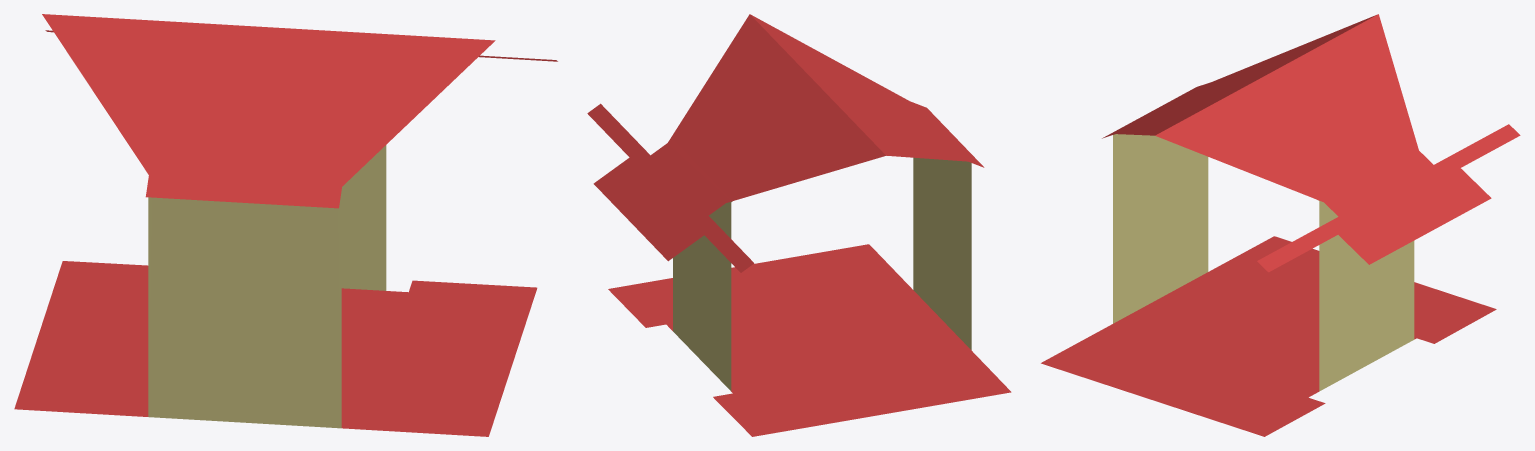
The picture shows the model from 3 angles, left to right: view 1: azimuth 30°, elevation 25°; view 2: azimuth 150°, elevation 25°; view 3: azimuth 270°, elevation 25°; orthographic projection. The views are drawn at different scales.
Size of the model in its own units: 16.81 by 16.24 by 9.64.
